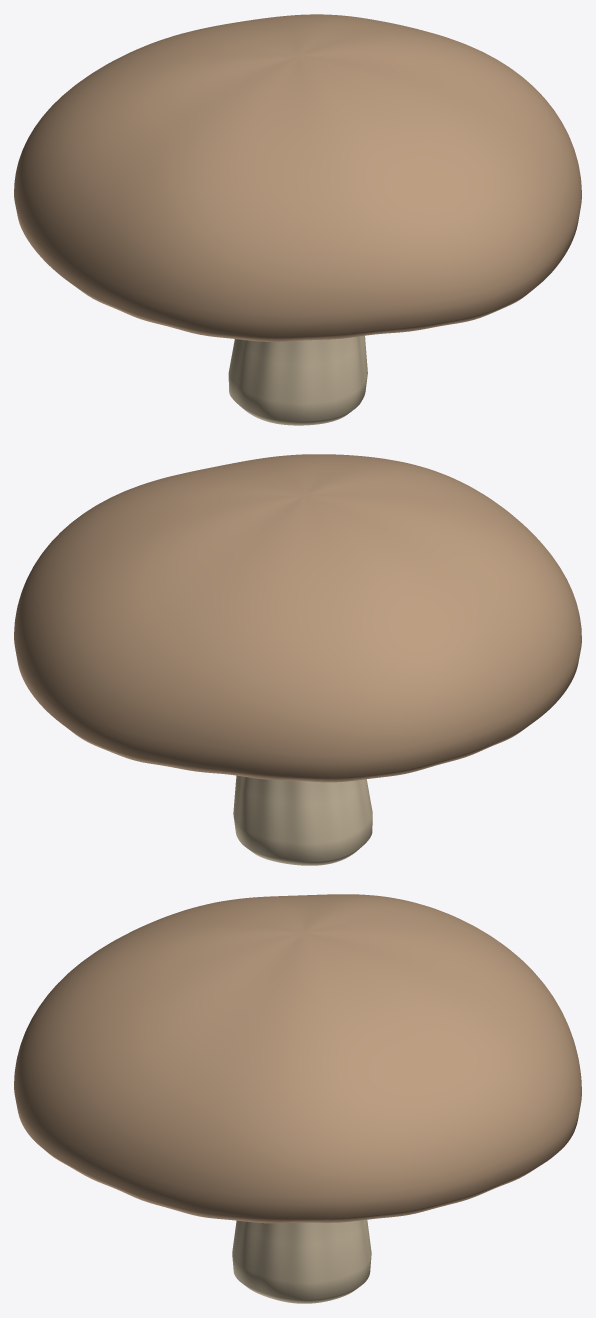
3 views of the same model, one above another, from view 1: azimuth 30°, elevation 25°; view 2: azimuth 150°, elevation 25°; view 3: azimuth 270°, elevation 25° (orthographic).
Visible parts, largest first — view 1: Whole organic mushroom continuous cap stem and radial unders; view 2: Whole organic mushroom continuous cap stem and radial unders; view 3: Whole organic mushroom continuous cap stem and radial unders.
Boxes of the visible parts, x1,y1,x2,y2 form: Whole organic mushroom continuous cap stem and radial unders: (14,14,581,425); Whole organic mushroom continuous cap stem and radial unders: (14,454,581,865); Whole organic mushroom continuous cap stem and radial unders: (14,894,581,1303).
Size of the model in its own units: 0.1 by 0.067 by 0.1.
